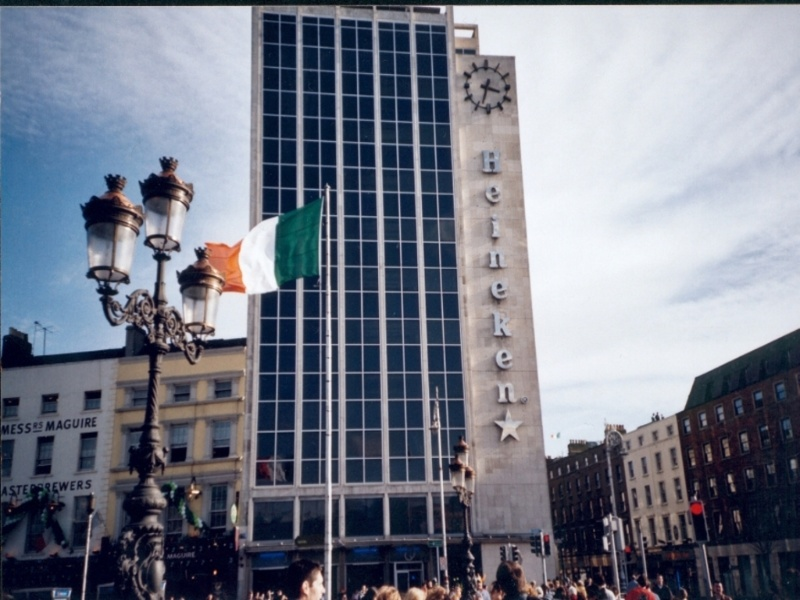red_light: (685, 502, 716, 542)
